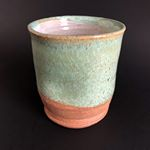cups: (25, 13, 129, 132)
